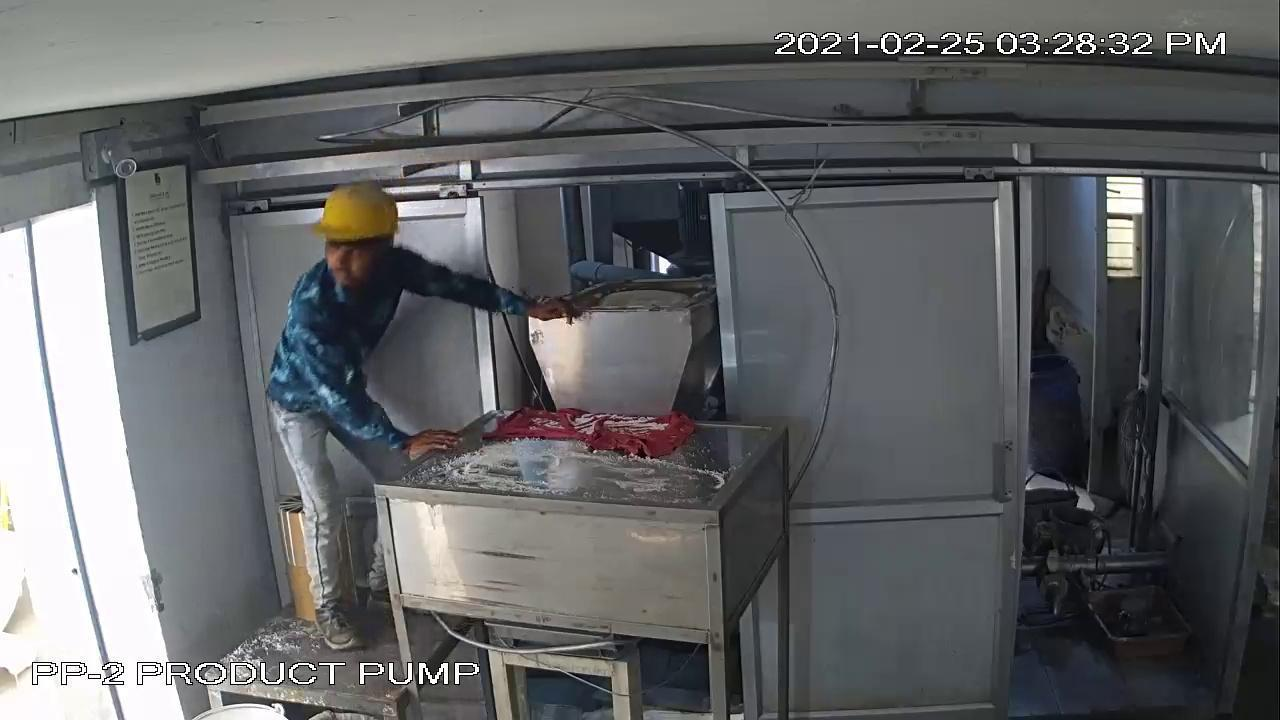helmet: (308, 162, 420, 262)
